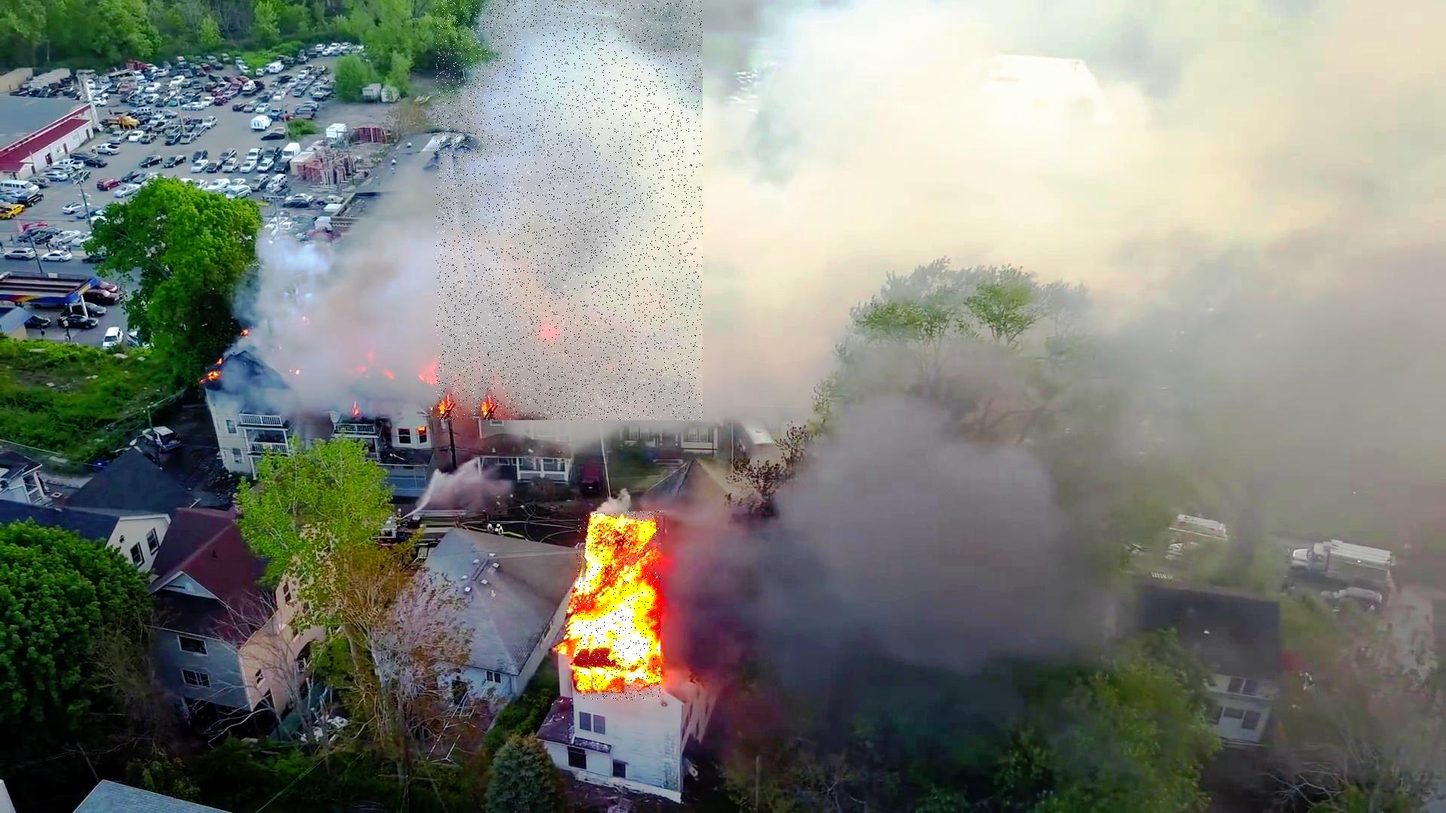fire: (576, 511, 661, 700)
smoke: (436, 0, 703, 420)
